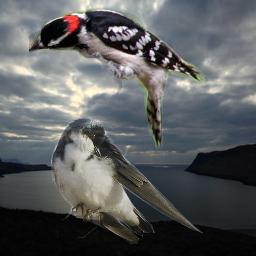Swallow: (48, 116, 203, 245)
Woodpecker: (29, 7, 206, 152)
